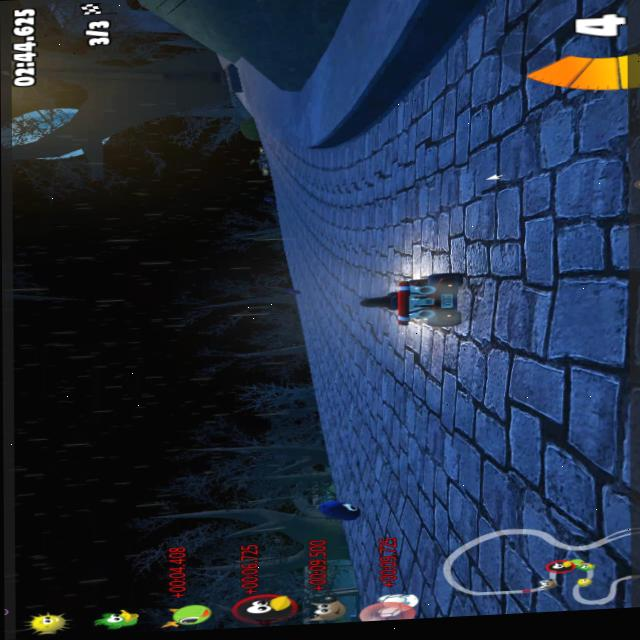nitro: (307, 489, 361, 523)
player_kart: (360, 270, 474, 337)
track: (453, 0, 640, 616), (361, 334, 465, 619), (327, 132, 372, 486), (370, 87, 455, 270), (307, 142, 331, 385), (291, 146, 314, 299), (279, 146, 290, 233), (245, 90, 252, 134), (257, 126, 266, 152), (271, 144, 277, 173)
